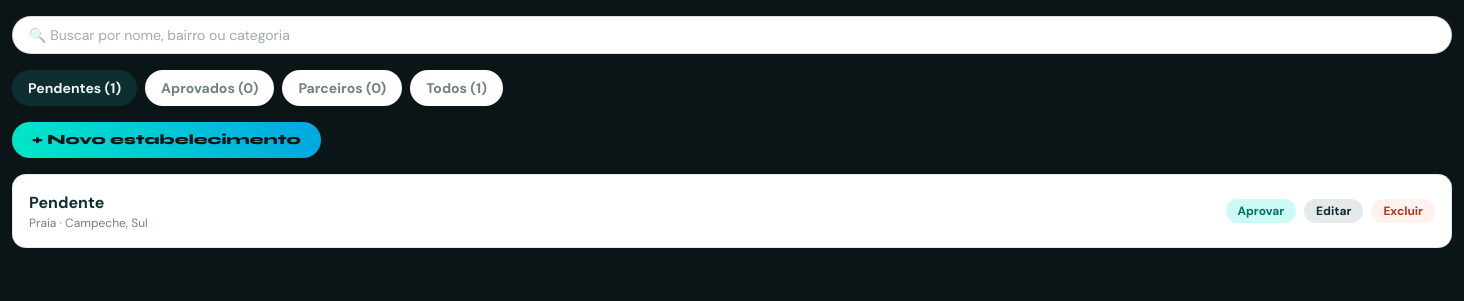
Test case: PlacesTabs › shows an error message when approving fails, and keeps the place in Pendentes
Click the button "Aprovar".
click(1261, 211)  # box [1226, 199, 1296, 223]
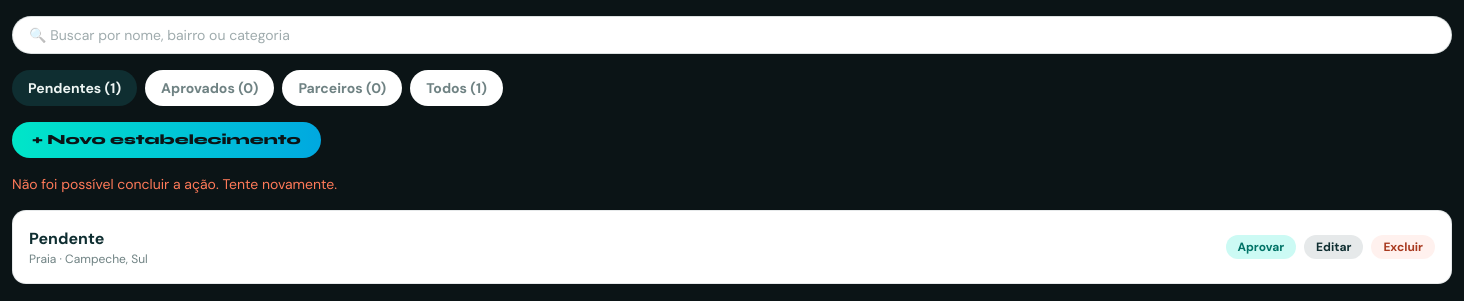
Check: the text "Pendente" is shown, box [29, 228, 104, 249]
Check: the text "Não foi possível concluir a ação. Tente novamente." is shown, box [12, 175, 337, 193]
